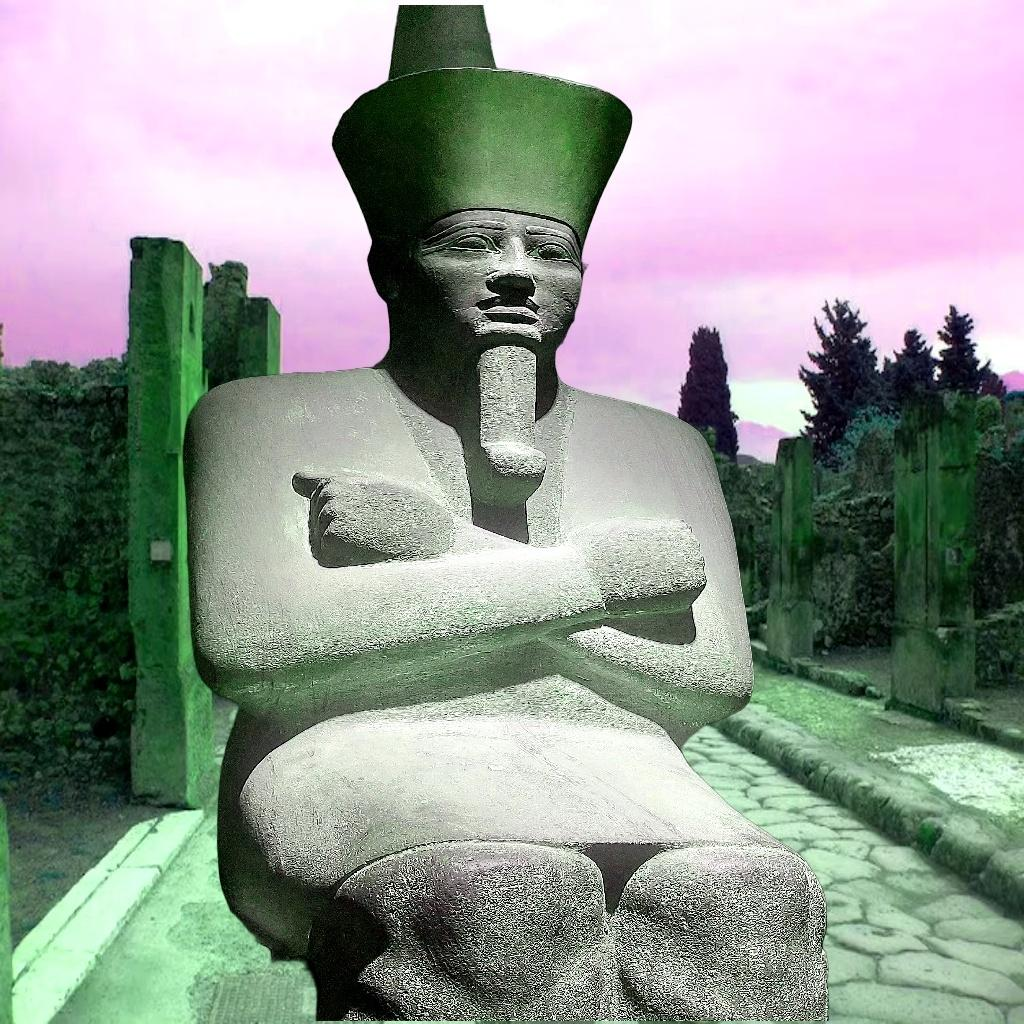Mentuhotep Nebhetpre: (160, 5, 834, 1021)
